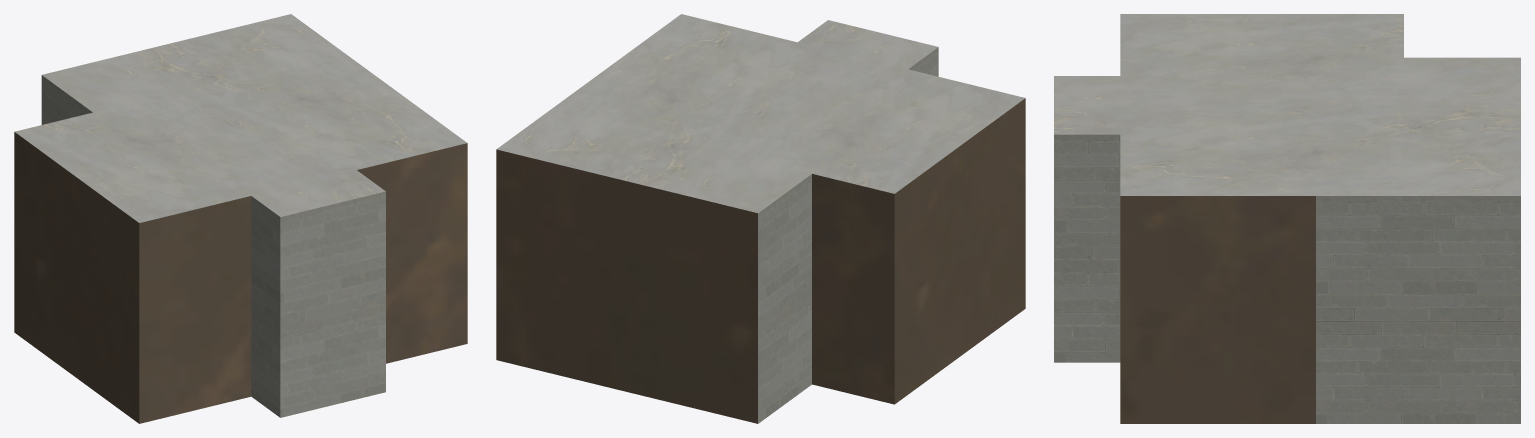
File: IndoorScene_Xm_Zls.fbx
3 renders of one model, left to right at view 1: azimuth 30°, elevation 25°; view 2: azimuth 150°, elevation 25°; view 3: azimuth 270°, elevation 25°, orthographic. The views are drawn at different scales.
Parts seen in each view (by area): view 1: Indoor_Xm_Build_Zls_Filling_Vo; view 2: Indoor_Xm_Build_Zls_Filling_Vo; view 3: Indoor_Xm_Build_Zls_Filling_Vo.
Part boxes in pixels (box(x1,y1,x2,y2)): Indoor_Xm_Build_Zls_Filling_Vo: box(14, 14, 467, 423); Indoor_Xm_Build_Zls_Filling_Vo: box(496, 14, 1025, 423); Indoor_Xm_Build_Zls_Filling_Vo: box(1054, 14, 1520, 423).
Bounding box in the file's own units: 23.4 × 13.68 × 25.38.
